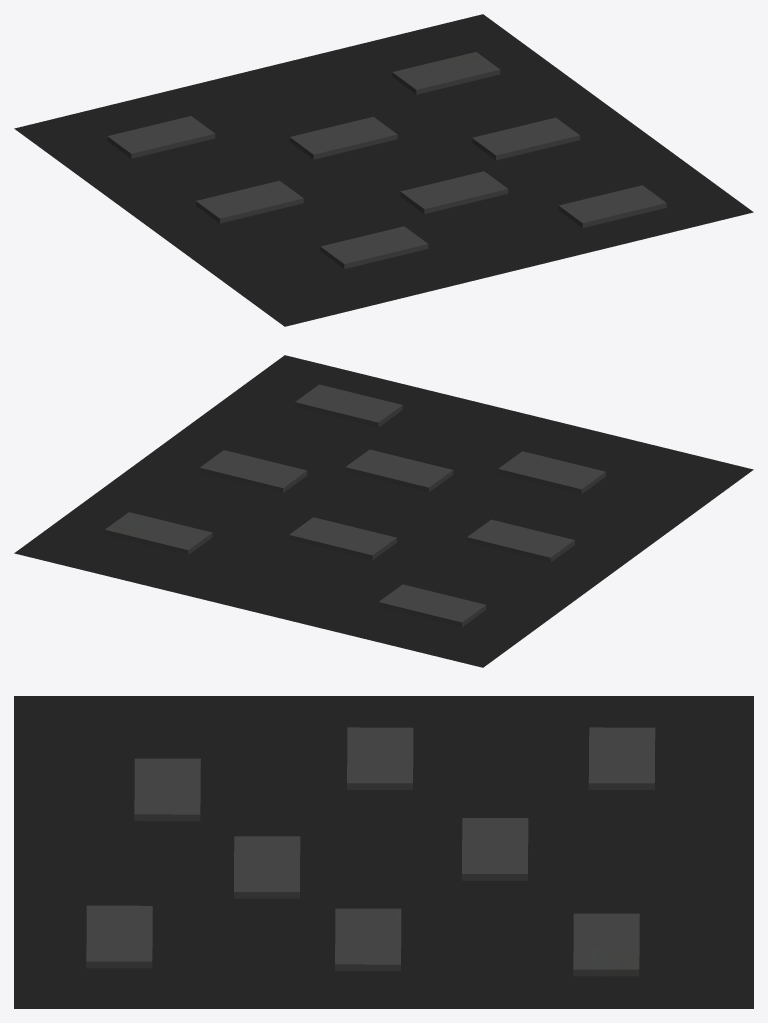
The model's file is Floortile_5.fbx.
The picture shows the model from 3 angles, top to bottom: view 1: azimuth 30°, elevation 25°; view 2: azimuth 150°, elevation 25°; view 3: azimuth 270°, elevation 25°; orthographic projection. The views are drawn at different scales.
Parts seen in each view (by area): view 1: Plane.006; view 2: Plane.006; view 3: Plane.006.
Part boxes in pixels (x1,y1,x2,y2): Plane.006: [14, 14, 753, 326]; Plane.006: [14, 355, 753, 667]; Plane.006: [14, 696, 753, 1008].
Bounding box in the file's own units: 400 × 4 × 400.
1 material, 1 textured.
